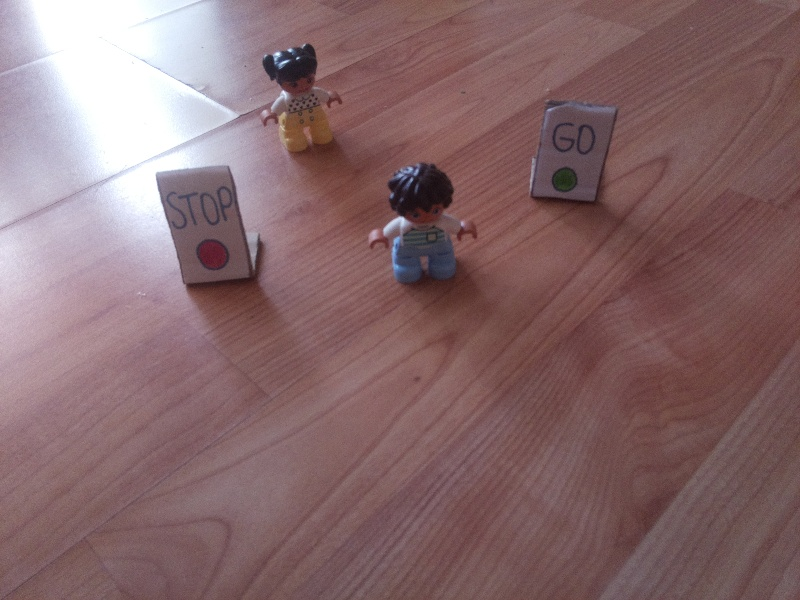go: (541, 117, 596, 196)
person: (362, 162, 480, 281), (255, 44, 352, 151)
stop: (162, 179, 242, 268)
